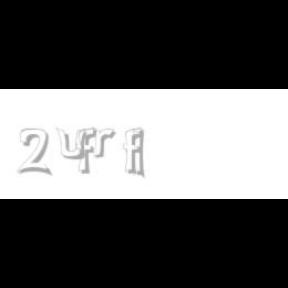2: (16, 128, 50, 176)
f: (77, 128, 101, 174), (123, 128, 147, 174)
l: (133, 128, 149, 180)
r: (92, 128, 118, 158)
u: (55, 128, 90, 160)
